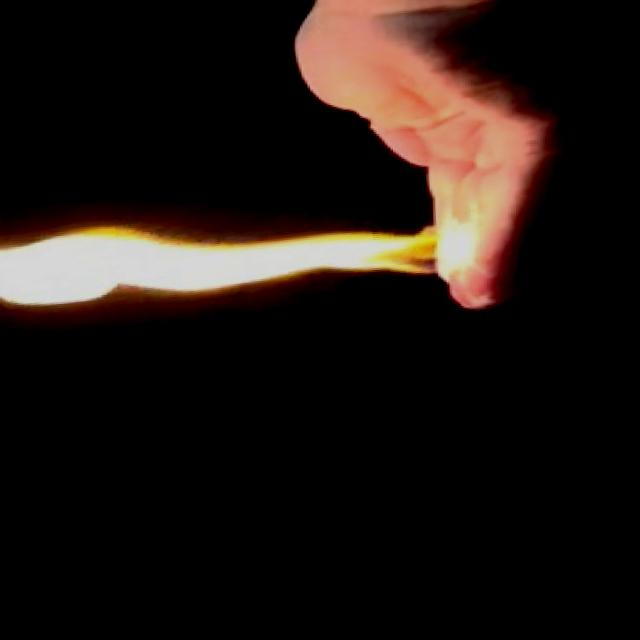helmet: (0, 176, 496, 330)
